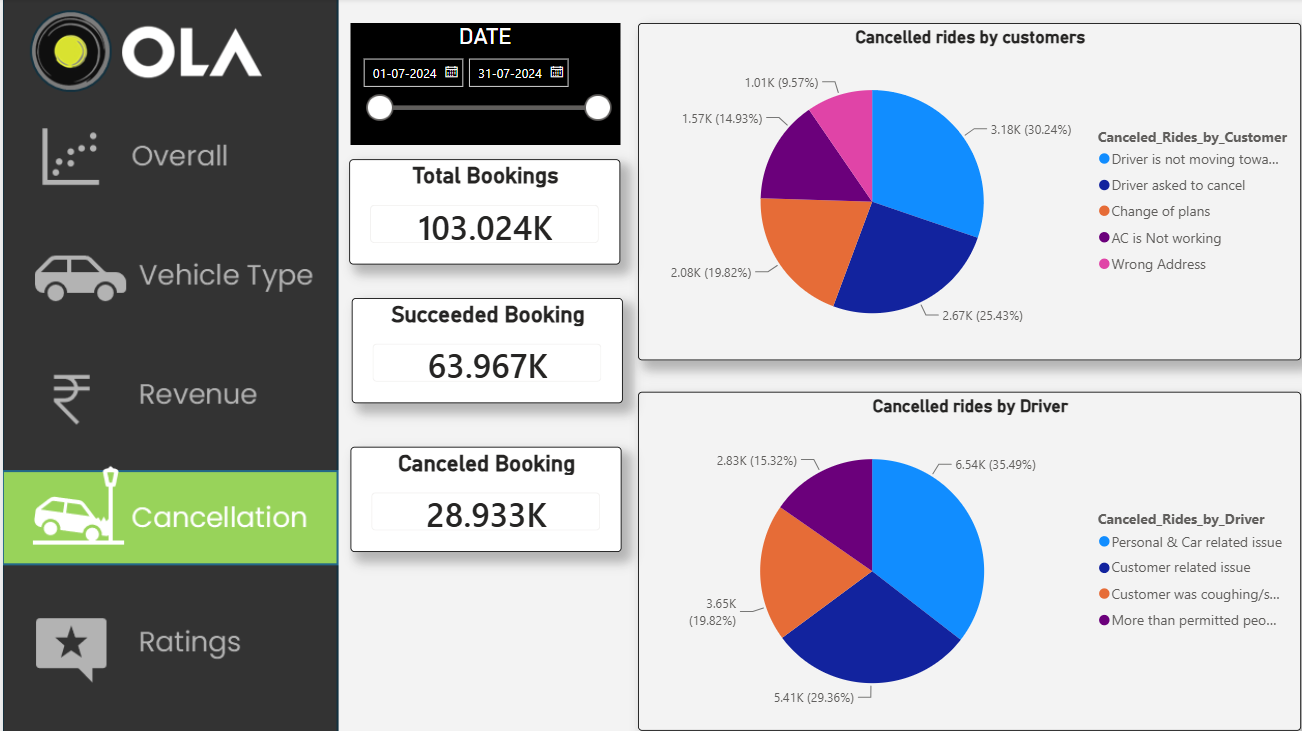

The dashboard page shown, as its layout file describes it:
{"tool":"powerbi","page":{"name":"Cancellation","canvas":[1280,720],"ordinal":3},"visuals":[{"type":"actionButton","box":[0,453.6,322.1,92.9],"z":0},{"type":"actionButton","box":[0,340.2,322.1,92.9],"z":1000},{"type":"actionButton","box":[1.2,219.6,322.1,92.9],"z":2000},{"type":"actionButton","box":[0,333,322.1,92.9],"z":3000},{"type":"actionButton","box":[0,581.5,322.1,85.7],"z":4000},{"type":"pieChart","title":"Cancelled rides by customers","fields":{"Category":["ola ola_d.Canceled_Rides_by_Customer"],"Y":["CountNonNull(ola ola_d.Canceled_Rides_by_Customer)"]},"box":[612.9,24.3,640,325.7],"z":4001},{"type":"pieChart","title":"Cancelled rides by Driver ","fields":{"Category":["ola ola_d.Canceled_Rides_by_Driver"],"Y":["CountNonNull(ola ola_d.Canceled_Rides_by_Driver)"]},"box":[612.9,380,640,327.1],"z":4002},{"type":"slicer","title":"DATE","fields":{"Values":["ola ola_d.Date"]},"box":[335.7,24.3,260,117.1],"z":4003},{"type":"cardVisual","title":"Total Bookings ","fields":{"Data":["CountNonNull(ola ola_d.Booking_ID)"]},"box":[334.3,155.7,261.4,101.4],"z":4004},{"type":"cardVisual","title":"Succeeded Booking ","fields":{"Data":["CountNonNull(ola ola_d.Booking_ID)"]},"box":[337.1,290,261.4,101.4],"z":4005},{"type":"cardVisual","title":"Canceled Booking ","fields":{"Data":["CountNonNull(ola ola_d.Booking_ID)"]},"box":[335.7,432.9,261.4,101.4],"z":4006}]}

Visuals, with their boxes in screenshot pixels (x1, y1, x2, y2), scaled from the page's 1280x720 canvas onto the 1302x731 screenshot:
actionButton: (left=0, top=461, right=328, bottom=555)
actionButton: (left=0, top=345, right=328, bottom=440)
actionButton: (left=1, top=223, right=329, bottom=317)
actionButton: (left=0, top=338, right=328, bottom=432)
actionButton: (left=0, top=590, right=328, bottom=677)
"Cancelled rides by customers" pieChart: (left=623, top=25, right=1274, bottom=355)
"Cancelled rides by Driver " pieChart: (left=623, top=386, right=1274, bottom=718)
"DATE" slicer: (left=341, top=25, right=606, bottom=144)
"Total Bookings " cardVisual: (left=340, top=158, right=606, bottom=261)
"Succeeded Booking " cardVisual: (left=343, top=294, right=609, bottom=397)
"Canceled Booking " cardVisual: (left=341, top=440, right=607, bottom=542)
